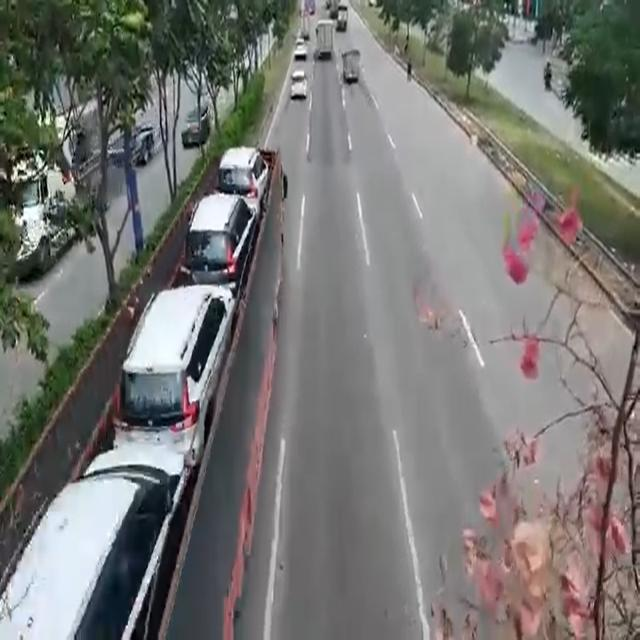car: (6, 457, 158, 640), (122, 293, 222, 397), (189, 198, 245, 272), (220, 145, 267, 188), (290, 70, 308, 100)
truck: (340, 52, 362, 86), (316, 20, 330, 61)
